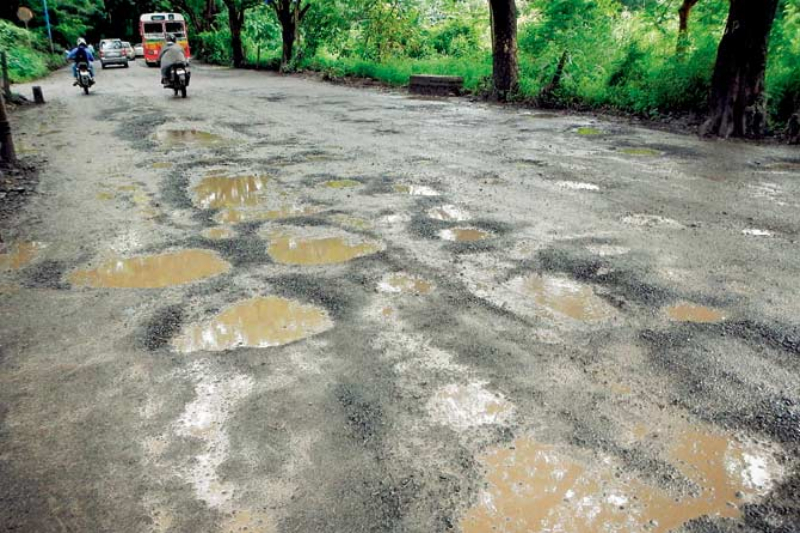pothole: (426, 426, 772, 531), (149, 265, 386, 375), (47, 239, 230, 292), (581, 116, 702, 175), (160, 157, 273, 218), (655, 279, 731, 341), (543, 168, 610, 205)
